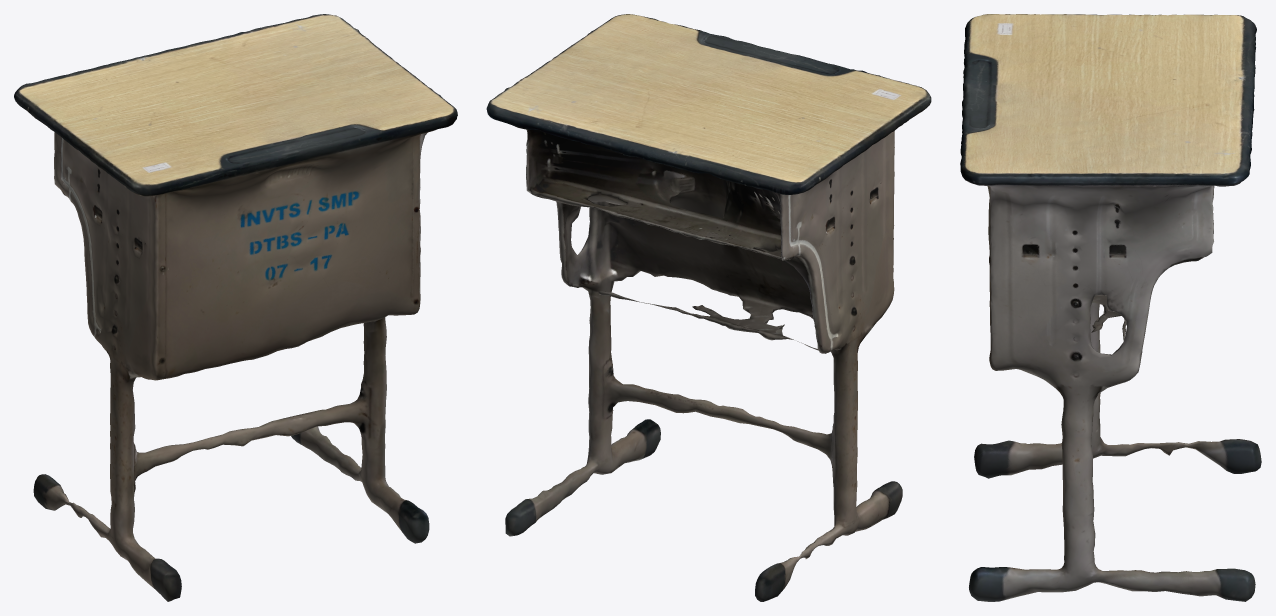
Rendered from Meja.obj.
3 views of the same model, side by side, from view 1: azimuth 30°, elevation 25°; view 2: azimuth 150°, elevation 25°; view 3: azimuth 270°, elevation 25° (orthographic). The views are drawn at different scales.
Visible parts, largest first — view 1: Mesh; view 2: Mesh; view 3: Mesh.
Boxes of the visible parts, left/top/right/bottom form: Mesh: left=14, top=14, right=457, bottom=601; Mesh: left=486, top=14, right=931, bottom=601; Mesh: left=960, top=14, right=1261, bottom=601.
Size of the model in its own units: 0.6039 by 0.762 by 0.463.
Materials: 1 (1 with a texture image).
